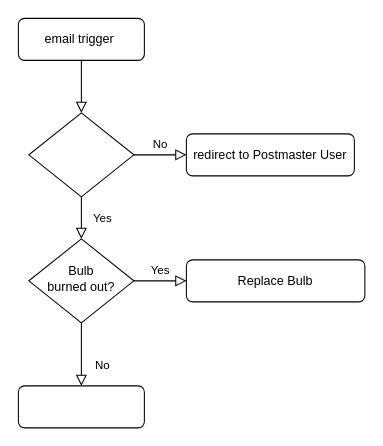
Image size: 383x446. Some labels were removed from this diagram. Each missing label, with the box of its shape:
No Relay: (28, 112, 134, 197)
Repair Lamp: (17, 385, 144, 428)
